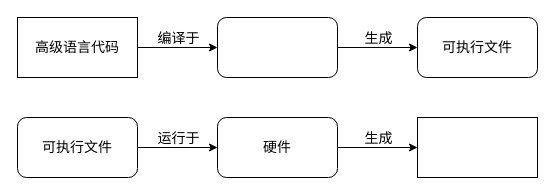
This 555x195 diagram has some shape labels left out. Here are the shapes that lost their labels. From the top down, the centre of each, then its label:
At point 277,47: "编译器".
At point 477,147: "程序结果".
